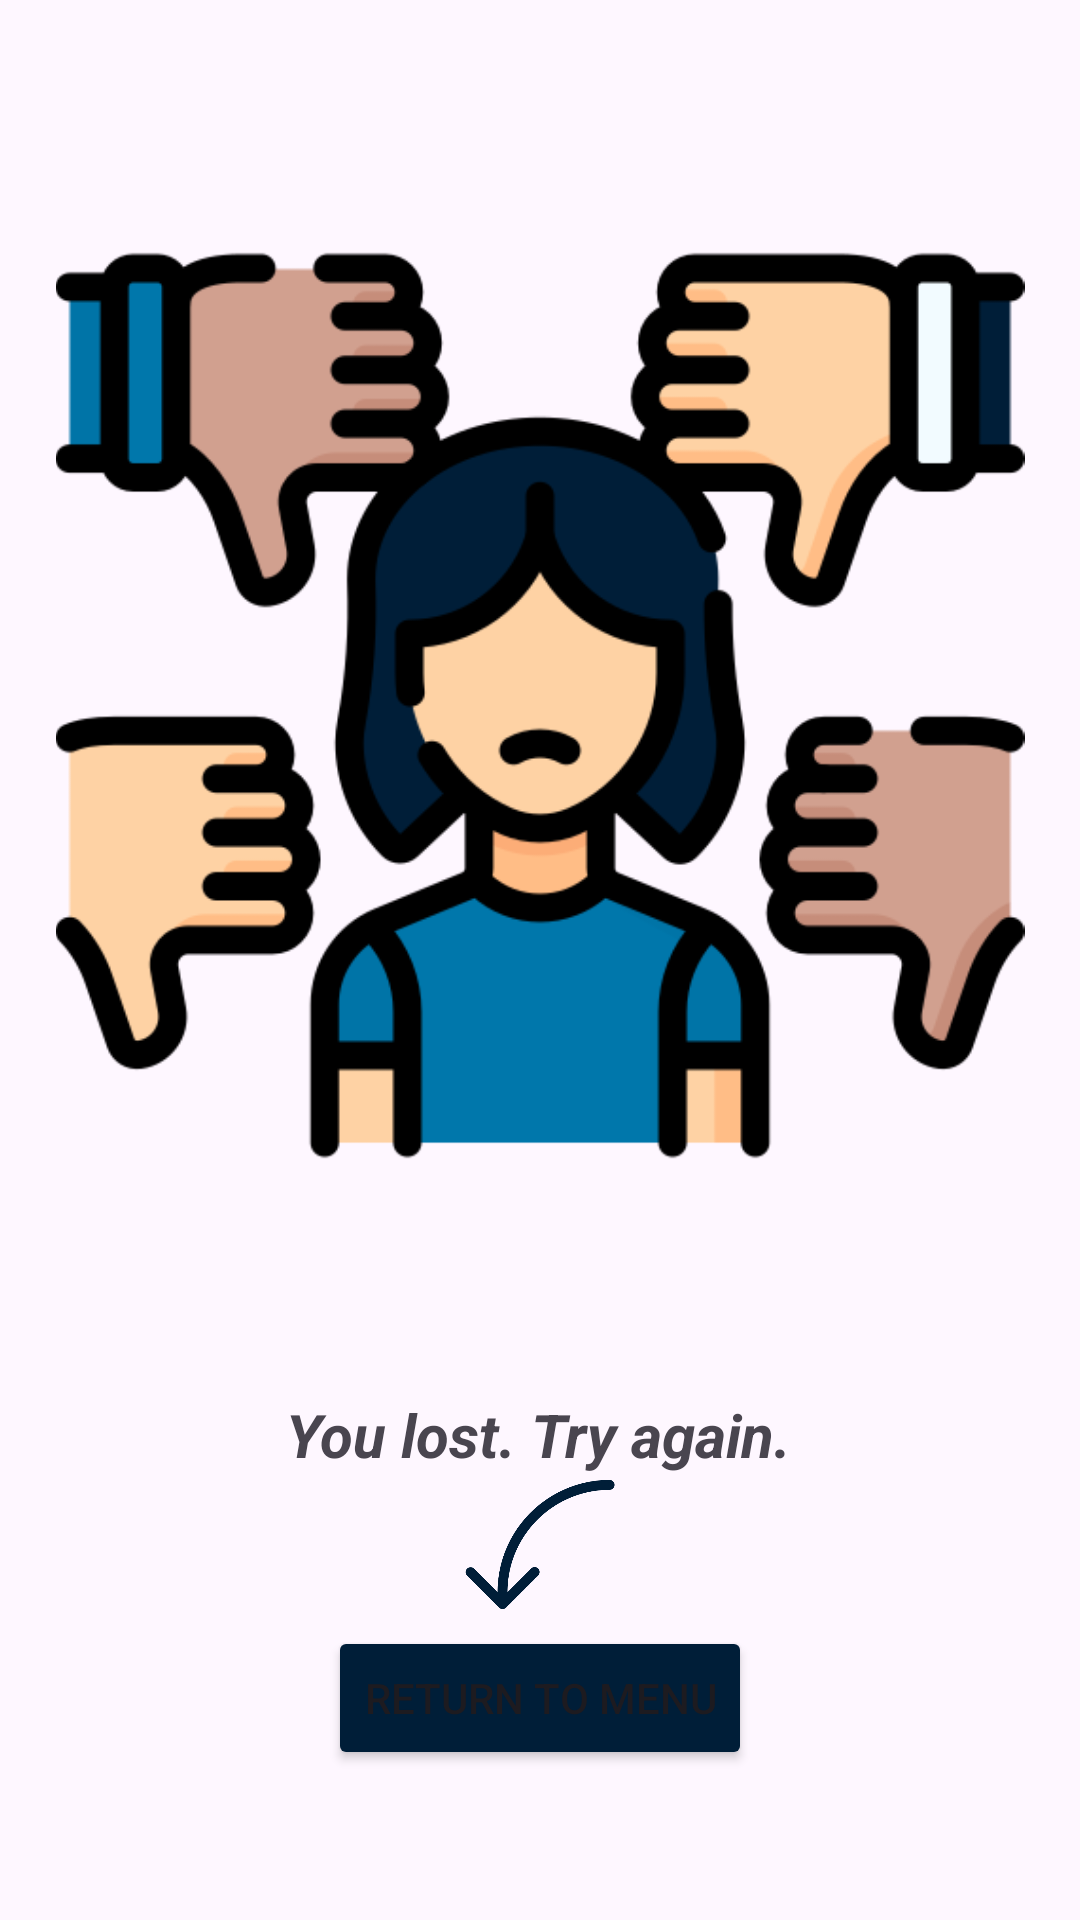

Screen size 1080*1920. Icon name, then its center in pixels as point (x, y):
arrow: point (540, 1544)
